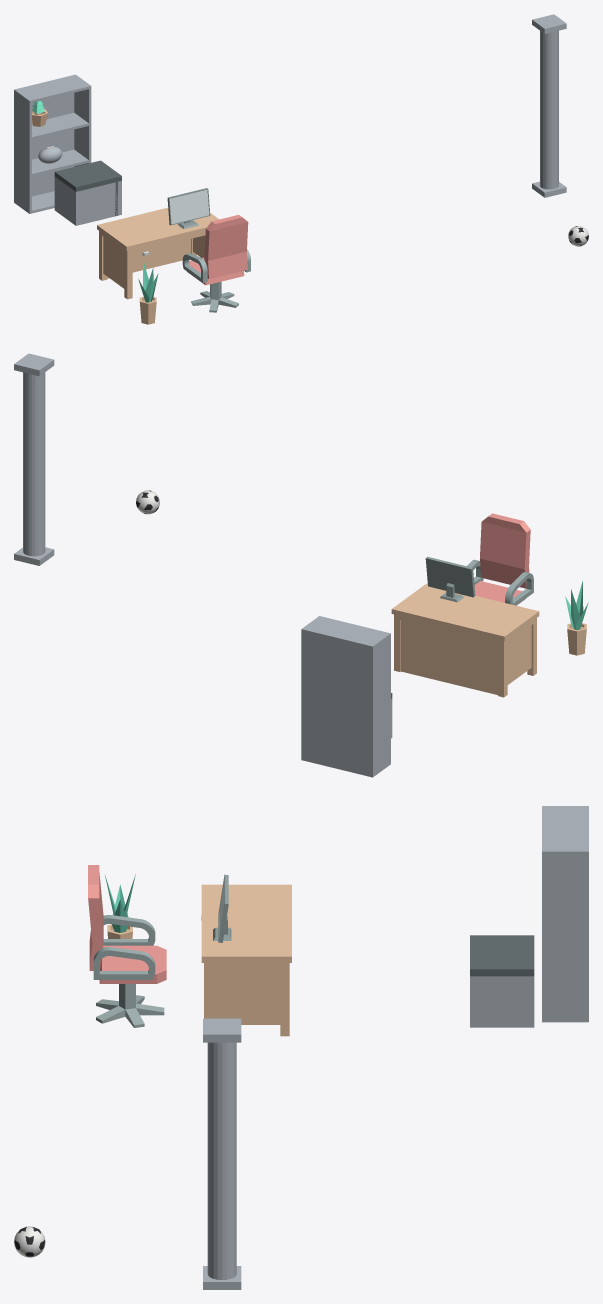
3 views of the same model, one above another, from view 1: azimuth 30°, elevation 25°; view 2: azimuth 150°, elevation 25°; view 3: azimuth 270°, elevation 25° (orthographic). The views are drawn at different scales.
Visible parts, largest first — view 1: desk_blue__desk(Clone), deskchair_black__chair, column_cyan__column_cyan shaft, crate_red__crate_red shell, shelf_orange__shelf_orange side_l, shelf_orange__shelf_orange back, monitor_gray__computerScreen(Clone), crate_red__crate_red lid, shelf_orange__shelf_orange side_r, shelf_orange__shelf_orange board3, shelf_orange__shelf_orange board2, shelf_orange__shelf_orange board1 (+2 smaller); view 2: desk_blue__desk(Clone), shelf_orange__shelf_orange back, deskchair_black__chair, column_cyan__column_cyan shaft, shelf_orange__shelf_orange side_l, monitor_gray__computerScreen(Clone), shelf_orange__shelf_orange board3, column_cyan__column_cyan capital, shelf_orange__shelf_orange side_r; view 3: desk_blue__desk(Clone), shelf_orange__shelf_orange side_r, column_cyan__column_cyan shaft, deskchair_black__chair, crate_red__crate_red shell, crate_red__crate_red lid, shelf_orange__shelf_orange board3, deskchair_black__chairDesk(Clone), column_cyan__column_cyan capital, soccer_white__soccer_white, monitor_gray__computerScreen(Clone).
Boxes of the visible parts, box(x1,y1,x2,y2) form: desk_blue__desk(Clone): box(97, 207, 218, 299); deskchair_black__chair: box(182, 215, 250, 285); column_cyan__column_cyan shaft: box(540, 30, 558, 189); crate_red__crate_red shell: box(54, 176, 121, 225); shelf_orange__shelf_orange side_l: box(14, 89, 31, 213); shelf_orange__shelf_orange back: box(17, 75, 74, 196); monitor_gray__computerScreen(Clone): box(167, 188, 210, 228); crate_red__crate_red lid: box(54, 160, 121, 191); shelf_orange__shelf_orange side_r: box(73, 74, 91, 166); shelf_orange__shelf_orange board3: box(18, 76, 88, 102); shelf_orange__shelf_orange board2: box(32, 112, 88, 139); shelf_orange__shelf_orange board1: box(32, 149, 88, 176); desk_blue__desk(Clone): box(391, 583, 539, 697); shelf_orange__shelf_orange back: box(304, 629, 370, 776); deskchair_black__chair: box(467, 513, 533, 605); column_cyan__column_cyan shaft: box(23, 372, 45, 556); shelf_orange__shelf_orange side_l: box(370, 632, 390, 777); monitor_gray__computerScreen(Clone): box(425, 556, 475, 602); shelf_orange__shelf_orange board3: box(306, 616, 387, 644); column_cyan__column_cyan capital: box(14, 353, 54, 376); shelf_orange__shelf_orange side_r: box(301, 616, 321, 760); desk_blue__desk(Clone): box(201, 884, 291, 1036); shelf_orange__shelf_orange side_r: box(542, 849, 588, 1022); column_cyan__column_cyan shaft: box(207, 1042, 236, 1279); deskchair_black__chair: box(88, 865, 166, 983); crate_red__crate_red shell: box(470, 976, 534, 1027); crate_red__crate_red lid: box(470, 935, 534, 976); shelf_orange__shelf_orange board3: box(542, 808, 585, 849); deskchair_black__chairDesk(Clone): box(96, 984, 164, 1027); column_cyan__column_cyan capital: box(203, 1018, 241, 1042); soccer_white__soccer_white: box(14, 1226, 45, 1257); monitor_gray__computerScreen(Clone): box(213, 874, 231, 942).
Size of the model in its own units: 5.54 by 1.96 by 4.
